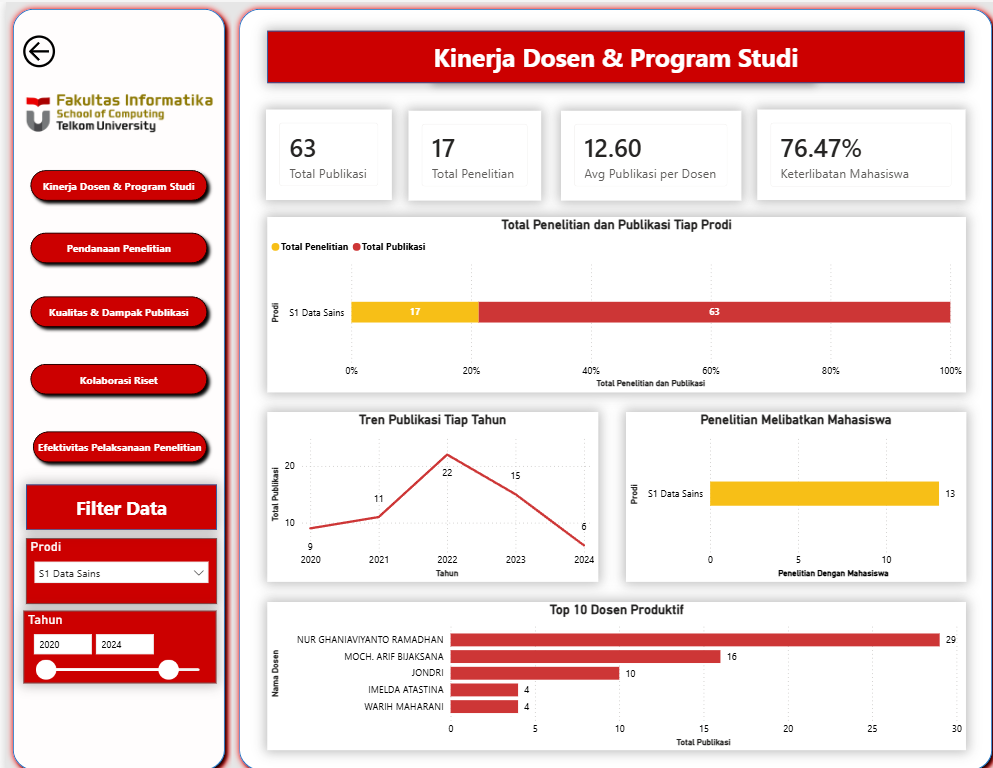

Layout of this report page (visuals, bound fields, positions):
{"tool":"powerbi","page":{"name":"KPI 1 - Kinerja Dosen & Program Studi","canvas":[1280,1000],"ordinal":0},"visuals":[{"type":"shape","box":[0,0,291.2,1000],"z":1000},{"type":"shape","box":[22.3,208.8,246,57.2],"z":2000},{"type":"shape","box":[22.3,288.6,246,57.2],"z":3000},{"type":"shape","box":[22.3,371,246,57.2],"z":4000},{"type":"shape","box":[22.3,457.4,246,57.2],"z":5000},{"type":"shape","box":[25.4,545.1,242.3,57.7],"z":6000},{"type":"actionButton","box":[16,37.2,54.5,53.2],"z":7000},{"type":"shape","box":[291.2,0,989.4,1000],"z":8000},{"type":"image","box":[19.9,93.1,254,101.1],"z":8500},{"type":"textbox","box":[545.2,45.2,489.4,53.2],"z":9000},{"type":"cardVisual","fields":{"Data":["railway fact_penelitianpublikasi.Total Publikasi"]},"box":[335.6,138.7,162.7,116.4],"z":10000},{"type":"cardVisual","fields":{"Data":["railway fact_penelitianpublikasi.Total Penelitian"]},"box":[518.6,139.6,171.5,115.7],"z":11000},{"type":"cardVisual","fields":{"Data":["railway fact_penelitianpublikasi.Avg Publikasi per Dosen"]},"box":[716.8,139.6,232.7,115.7],"z":12000},{"type":"cardVisual","fields":{"Data":["railway fact_penelitianpublikasi.Persentase Keterlibatan Mahasiswa Fact"]},"box":[969.4,138.3,268.6,117],"z":13000},{"type":"hundredPercentStackedBarChart","title":"Total Penelitian dan Publikasi Tiap Prodi","fields":{"Category":["railway dim_dosen.prodi"],"Y":["railway fact_penelitianpublikasi.Total Penelitian","railway fact_penelitianpublikasi.Total Publikasi"]},"box":[336.4,277.9,901.6,226.1],"z":14000},{"type":"lineChart","title":"Tren Publikasi Tiap Tahun","fields":{"Category":["railway dim_waktu.tahun"],"Y":["railway fact_penelitianpublikasi.Total Publikasi"]},"box":[336.4,529.2,426.9,219.4],"z":15000},{"type":"barChart","title":"Penelitian Melibatkan Mahasiswa","fields":{"Category":["railway dim_dosen.prodi"],"Y":["railway fact_penelitianpublikasi.Penelitian Dengan Mahasiswa Fact"]},"box":[799.2,529.2,438.8,219.4],"z":16000},{"type":"barChart","title":"Top 10 Dosen Produktif","fields":{"Category":["railway dim_dosen.nama_dosen"],"Y":["railway fact_penelitianpublikasi.Total Publikasi"]},"box":[336.4,773.9,901.6,191.5],"z":17000},{"type":"slicer","title":"Prodi","fields":{"Values":["railway dim_dosen.prodi"]},"box":[25,691.2,246.2,85],"z":18000},{"type":"slicer","title":"Tahun","fields":{"Values":["railway dim_waktu.tahun"]},"box":[22.5,785,248.8,93.8],"z":19000},{"type":"shape","box":[25,622.5,246.2,58.8],"z":20000},{"type":"shape","box":[336.6,36.6,900,67.6],"z":21000}]}

Visuals, with their boxes in screenshot pixels (x1, y1, x2, y2), scaled from the page's 1280x1000 canvas onto the 993x768 screenshot:
shape: 0/0/226/767
shape: 17/160/208/204
shape: 17/222/208/266
shape: 17/285/208/329
shape: 17/351/208/395
shape: 20/419/208/463
actionButton: 12/29/55/69
shape: 226/0/992/767
image: 15/72/212/149
textbox: 423/35/803/76
cardVisual - railway fact_penelitianpublikasi.Total Publikasi: 260/107/387/196
cardVisual - railway fact_penelitianpublikasi.Total Penelitian: 402/107/535/196
cardVisual - railway fact_penelitianpublikasi.Avg Publikasi per Dosen: 556/107/737/196
cardVisual - railway fact_penelitianpublikasi.Persentase Keterlibatan Mahasiswa Fact: 752/106/960/196
"Total Penelitian dan Publikasi Tiap Prodi" hundredPercentStackedBarChart: 261/213/960/387
"Tren Publikasi Tiap Tahun" lineChart: 261/406/592/575
"Penelitian Melibatkan Mahasiswa" barChart: 620/406/960/575
"Top 10 Dosen Produktif" barChart: 261/594/960/741
"Prodi" slicer: 19/531/210/596
"Tahun" slicer: 17/603/210/675
shape: 19/478/210/523
shape: 261/28/959/80
